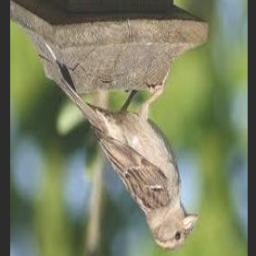Sparrow: (61, 74, 198, 249)
